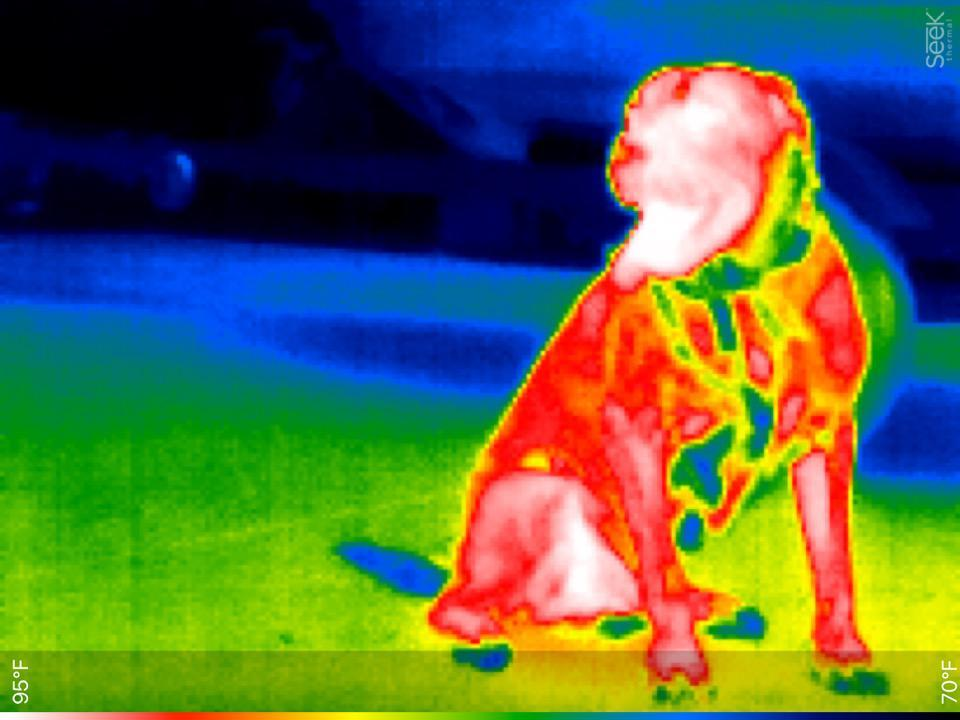dog: (423, 57, 884, 691)
